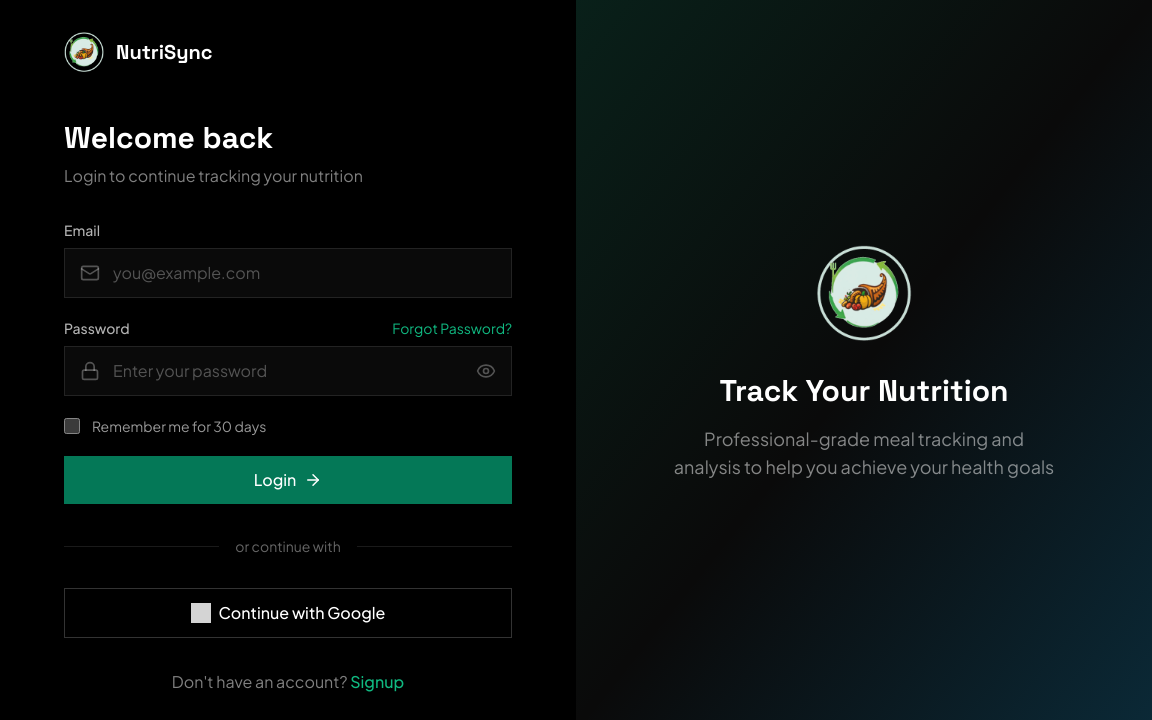
Login Page › shows loading state during login
Type "test@example.com" into the field with placeholder "you@example.com".
click(288, 273); type("test@example.com")  # box [64, 248, 512, 298]
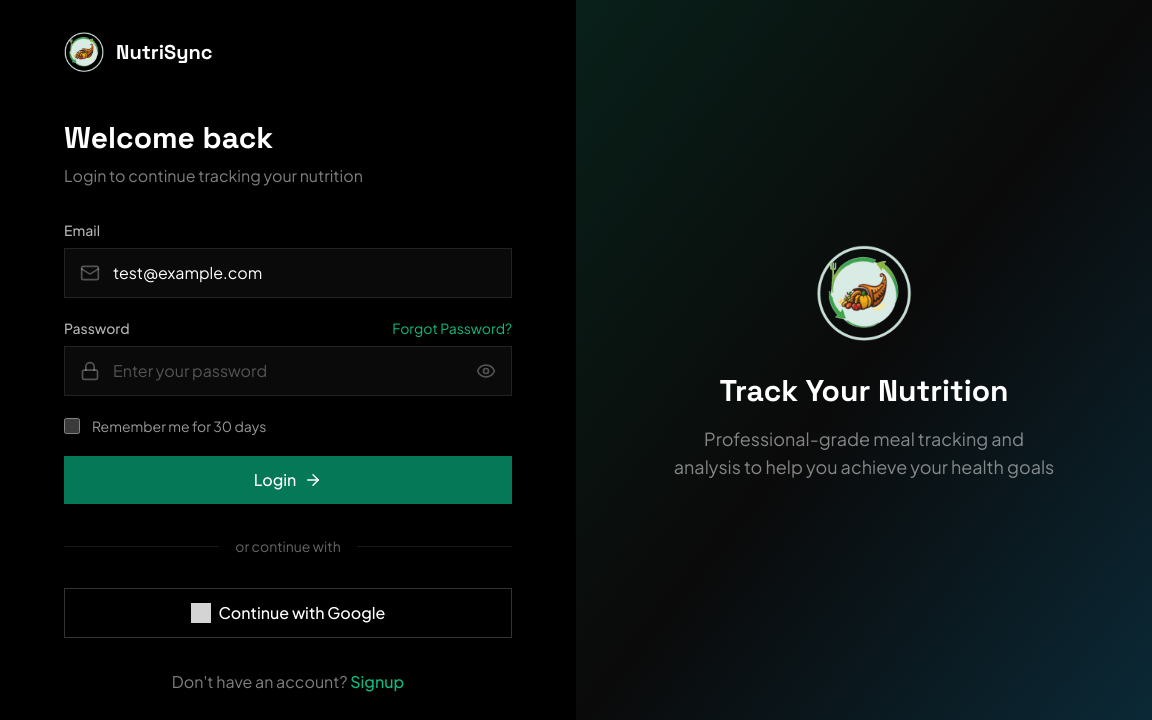
Type "ValidPass123!" into the password field with placeholder "Enter your password".
click(288, 371); type("ValidPass123!")  # box [64, 346, 512, 396]
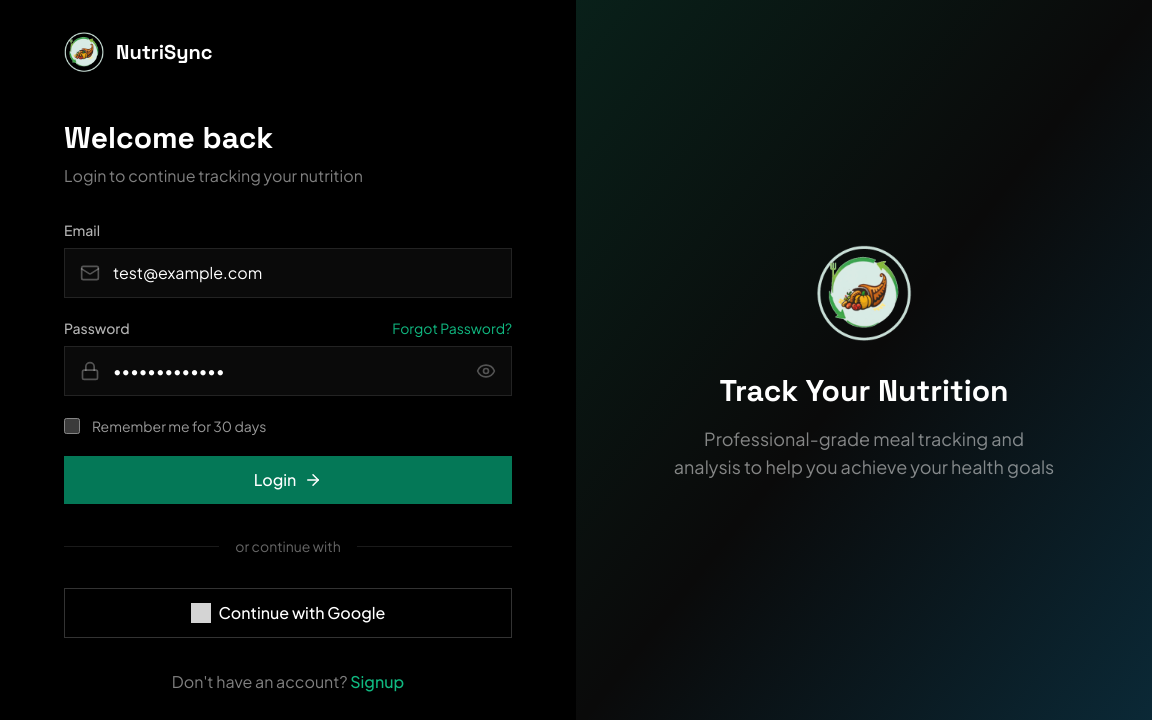
Click the button "Login".
click(288, 480)  # box [64, 456, 512, 504]
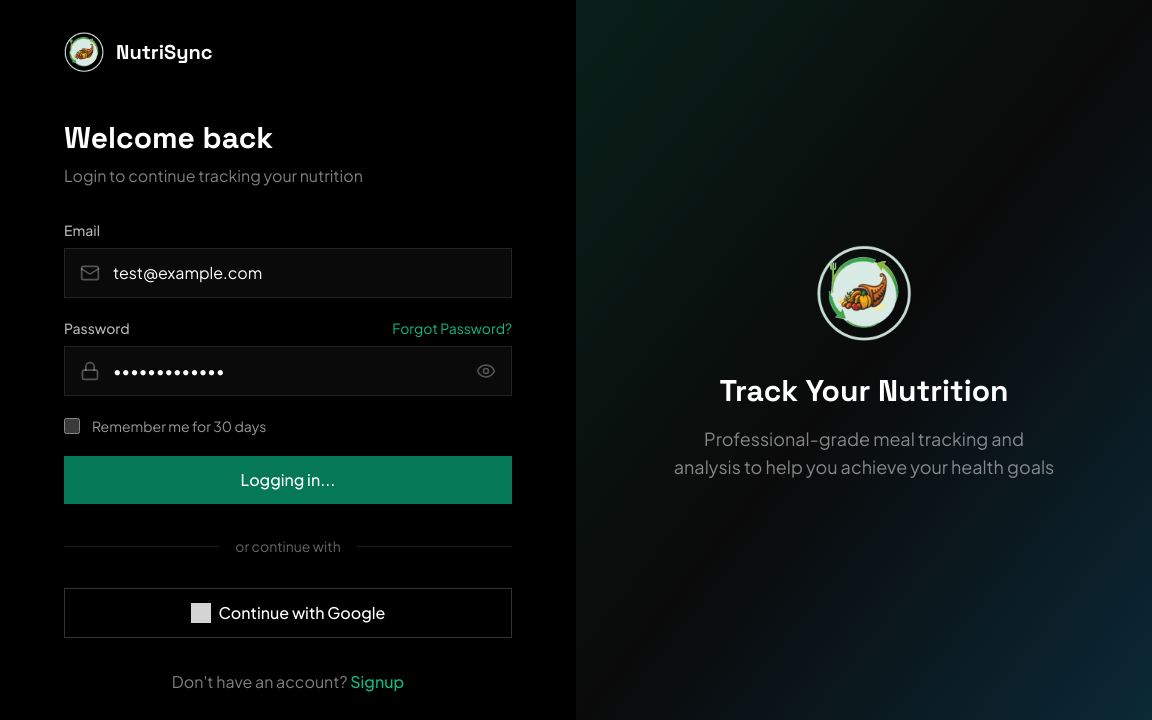
Check: the button "Logging in..." is disabled, box [64, 456, 512, 504]
